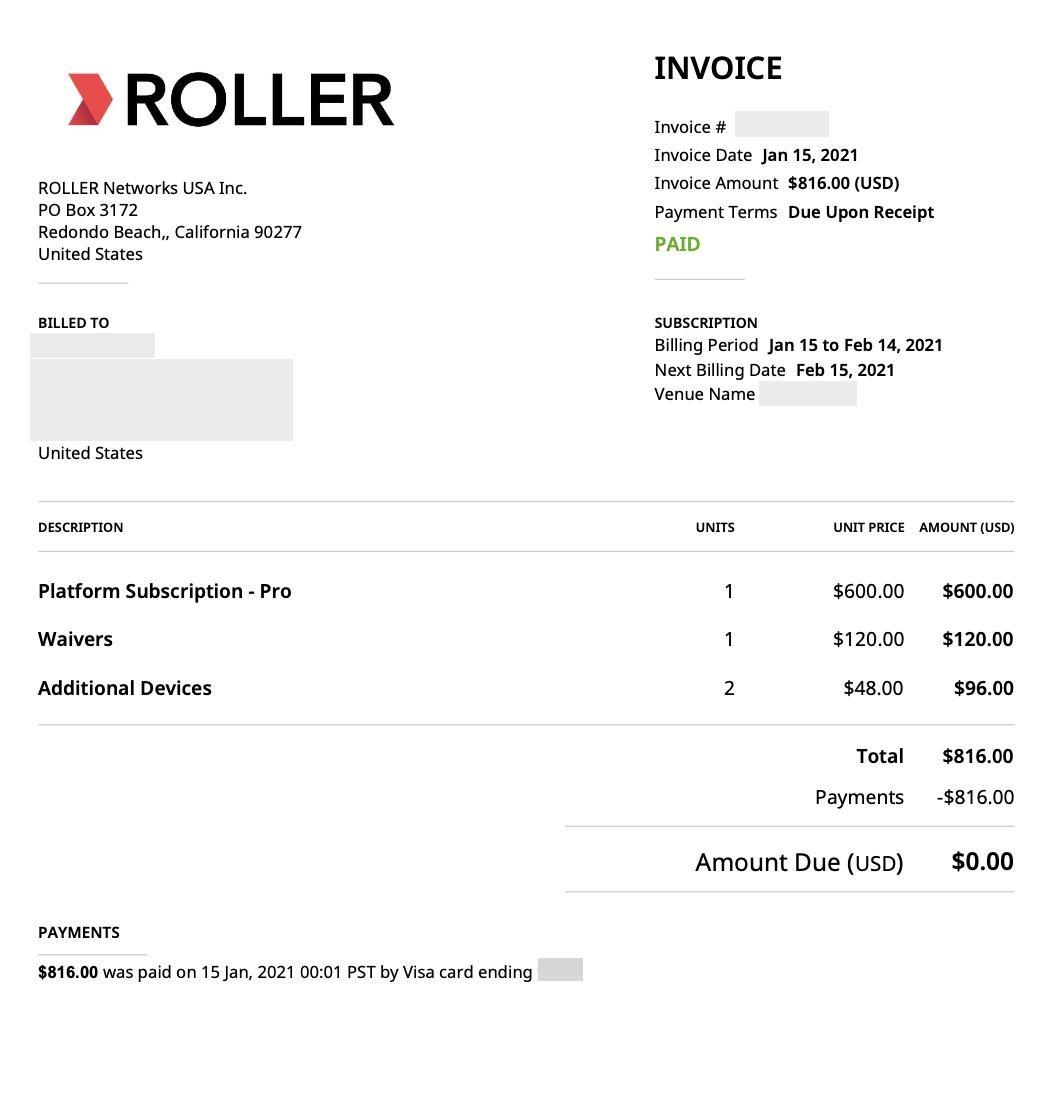ROI: (35, 517, 1020, 707), (693, 740, 1018, 880), (32, 312, 293, 465), (650, 118, 935, 255), (35, 925, 595, 990), (37, 172, 318, 272)
